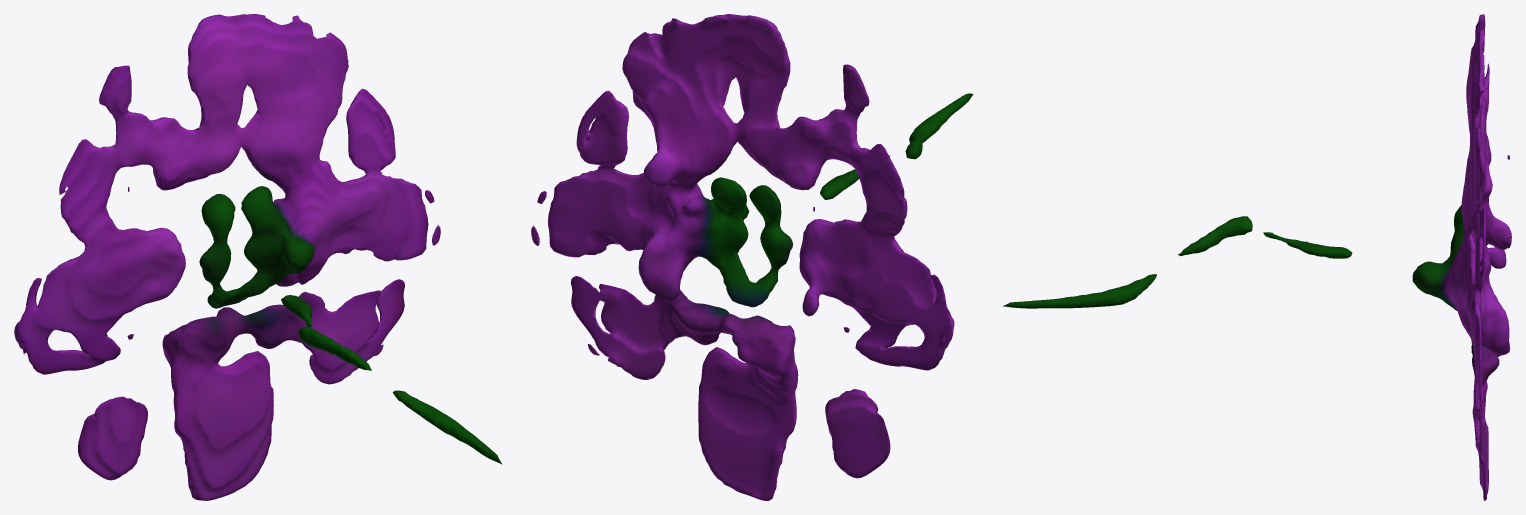
The picture shows the model from 3 angles, left to right: view 1: azimuth 30°, elevation 25°; view 2: azimuth 150°, elevation 25°; view 3: azimuth 270°, elevation 25°; orthographic projection. The views are drawn at different scales.
Visible parts, largest first — view 1: plyFile; view 2: plyFile; view 3: plyFile.
Boxes of the visible parts, left/top/right/bottom form: plyFile: left=14, top=14, right=502, bottom=500; plyFile: left=531, top=14, right=973, bottom=500; plyFile: left=1002, top=14, right=1511, bottom=500.
Size of the model in its own units: 174 by 189 by 190.
